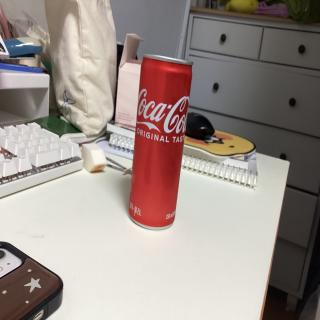cocacola: (127, 54, 195, 232)
